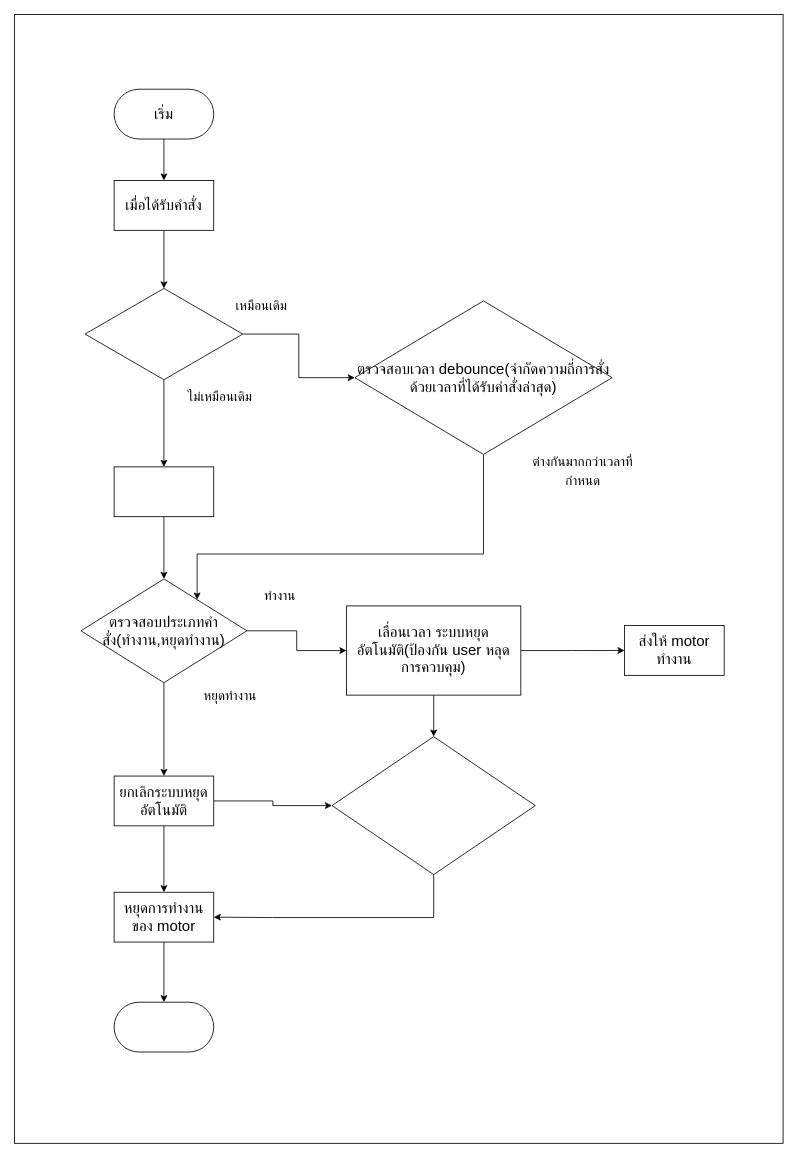
Some shapes in this 798 by 1158 pixel diagram are drawn without their labels. The centre of each missing label's shape, as x and y in pixels:
"จบโปรแกรม" goes at (163,1026).
"ตรวจสอบรูปแบบคำสั่ง(เหมือนเดิมไหม)" goes at (163,334).
"ตั้งเวลา debounce ใหม่" goes at (163,491).
"เมื่อถึงเวลาที่กำหนด(default=700ms)" goes at (433,805).
